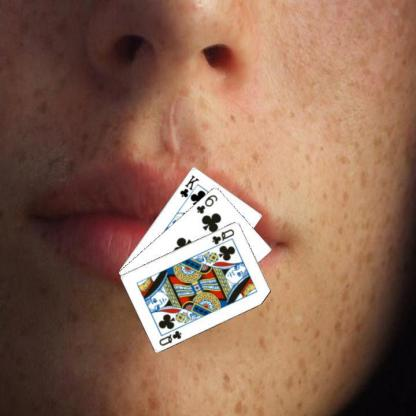6C: (194, 192, 219, 215)
KC: (178, 172, 200, 204)
QC: (209, 226, 236, 245), (156, 328, 182, 346)
